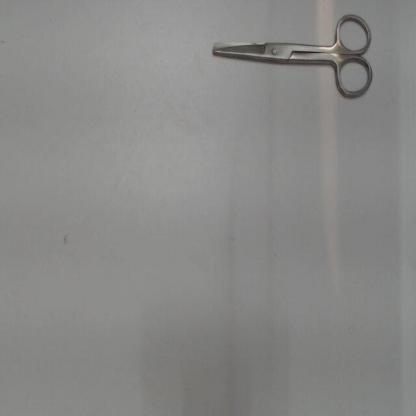Dressing Scissors: (206, 6, 382, 108)
